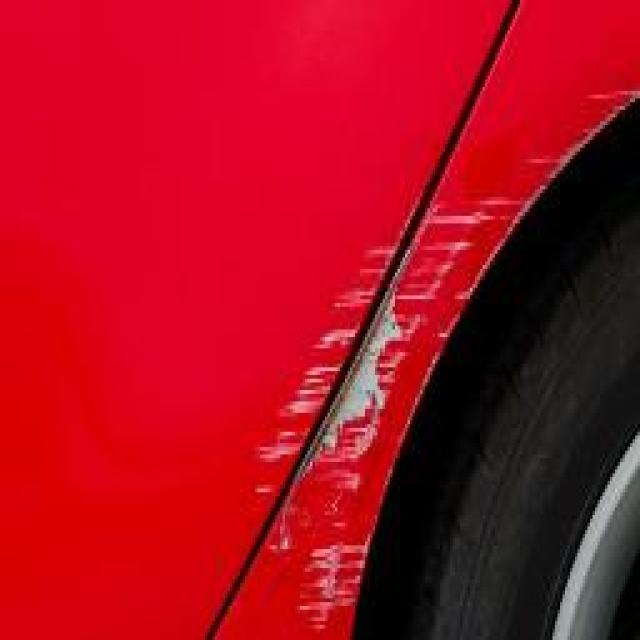Door: (211, 194, 424, 523)
Fender: (262, 65, 640, 640)
